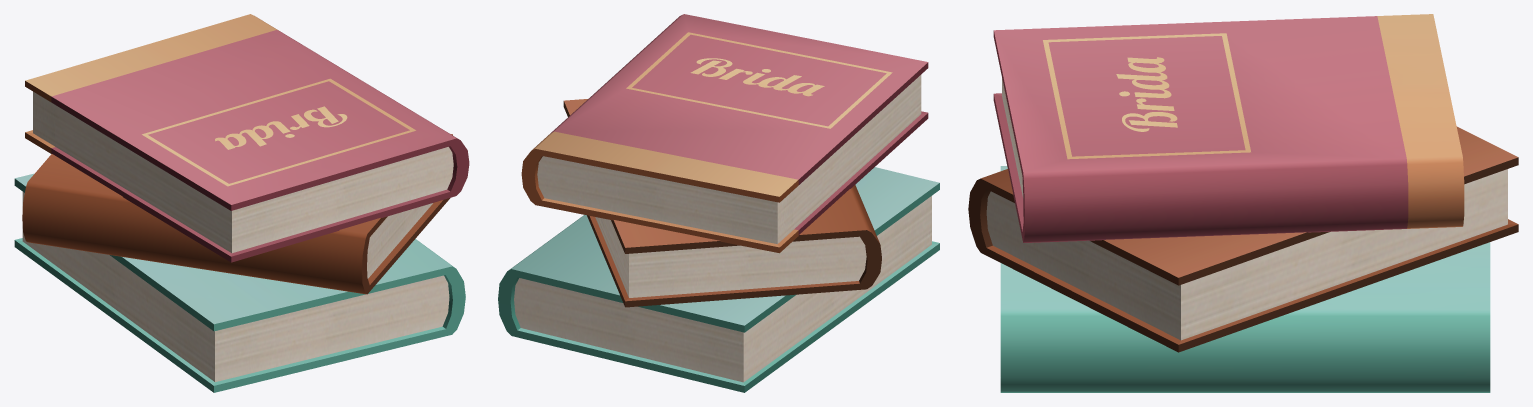
The model's file is Doll_OB_Book_001.FBX.
The picture shows the model from 3 angles, left to right: view 1: azimuth 30°, elevation 25°; view 2: azimuth 150°, elevation 25°; view 3: azimuth 270°, elevation 25°; orthographic projection. The views are drawn at different scales.
Visible parts, largest first — view 1: Doll_OB_Book_001; view 2: Doll_OB_Book_001; view 3: Doll_OB_Book_001.
Part boxes in pixels (box(x1,y1,x2,y2)): Doll_OB_Book_001: box(14, 14, 469, 392); Doll_OB_Book_001: box(498, 14, 939, 392); Doll_OB_Book_001: box(968, 14, 1518, 392).
Bounding box in the file's own units: 18.09 × 8.65 × 18.58.
